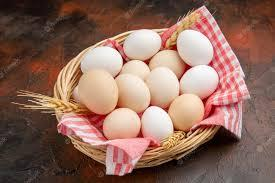egg: (78, 68, 120, 112), (141, 104, 177, 144), (180, 66, 222, 100), (120, 26, 162, 60), (178, 27, 214, 65), (102, 106, 142, 139), (79, 46, 124, 75), (116, 72, 150, 110), (148, 66, 180, 106), (170, 94, 204, 131), (152, 48, 190, 78), (122, 59, 150, 76)
